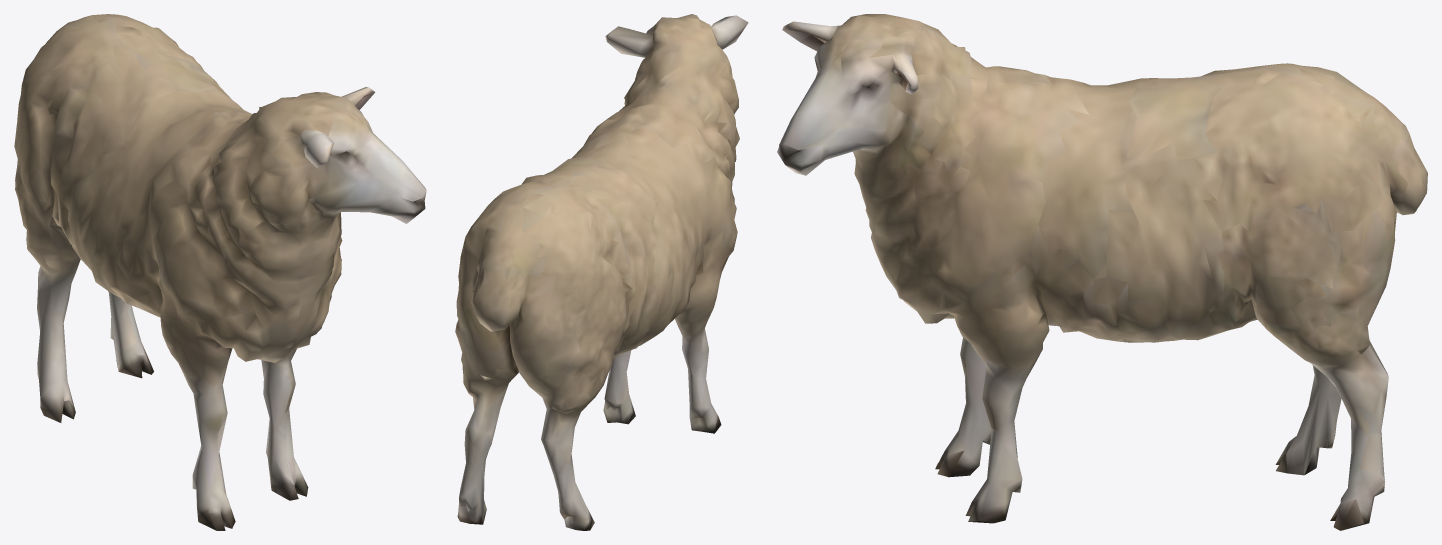
The model's file is sheep.glb.
3 views of the same model, side by side, from view 1: azimuth 30°, elevation 25°; view 2: azimuth 150°, elevation 25°; view 3: azimuth 270°, elevation 25° (orthographic). The views are drawn at different scales.
Parts seen in each view (by area): view 1: LO.001; view 2: LO.001; view 3: LO.001.
Boxes of the visible parts, x1,y1,x2,y2 form: LO.001: (14,14,426,530); LO.001: (455,14,748,530); LO.001: (777,14,1427,530).
Size of the model in its own units: 0.4994 by 1.11 by 1.35.
1 material, 1 textured.
